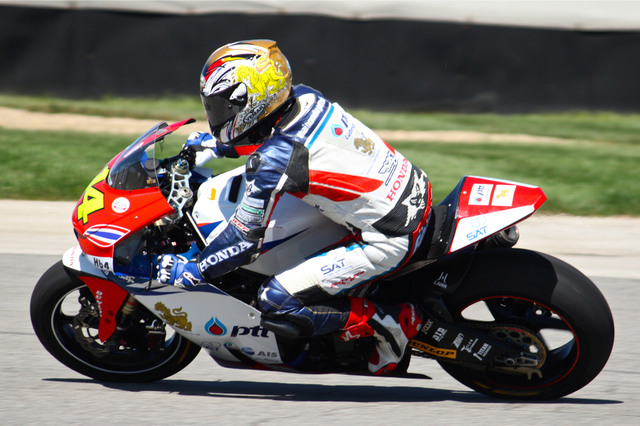helmet: (186, 39, 299, 133)
